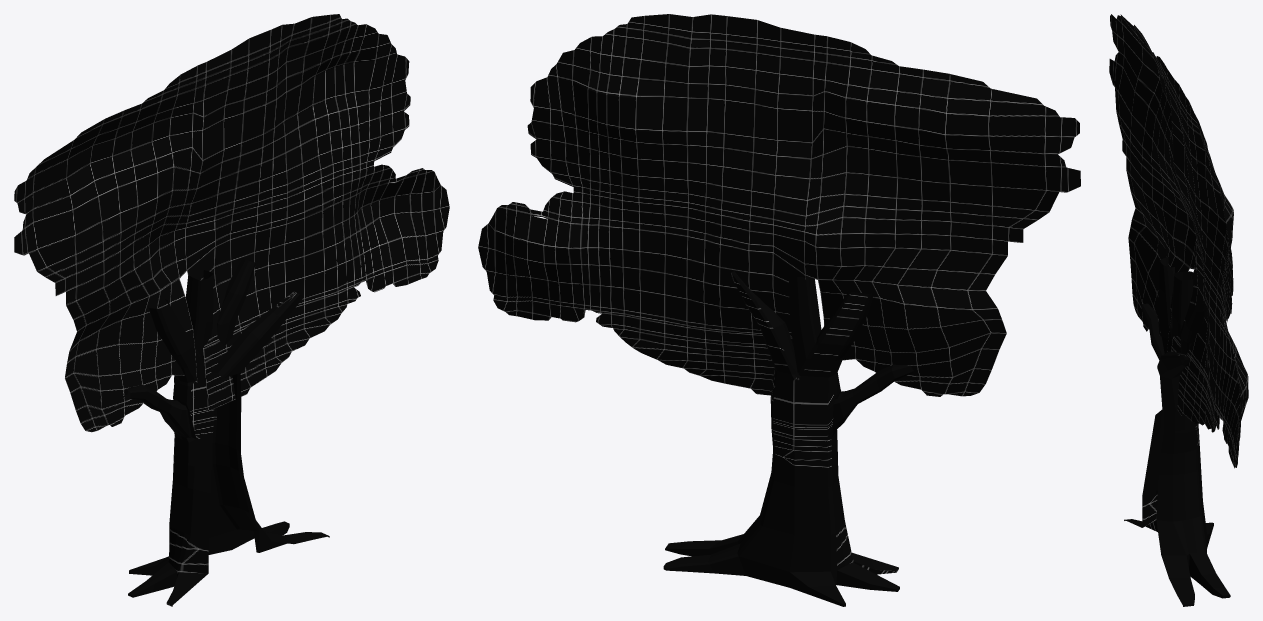
Rendered from tree.fbx.
The picture shows the model from 3 angles, left to right: view 1: azimuth 30°, elevation 25°; view 2: azimuth 150°, elevation 25°; view 3: azimuth 270°, elevation 25°; orthographic projection. The views are drawn at different scales.
Visible parts, largest first — view 1: polySurface246; view 2: polySurface246; view 3: polySurface246.
Part boxes in pixels (x1,y1,x2,y2): polySurface246: [14, 14, 449, 606]; polySurface246: [478, 14, 1080, 606]; polySurface246: [1109, 14, 1248, 606].
Bounding box in the file's own units: 102 × 101 × 26.11.
Materials: 1 (1 with a texture image).
